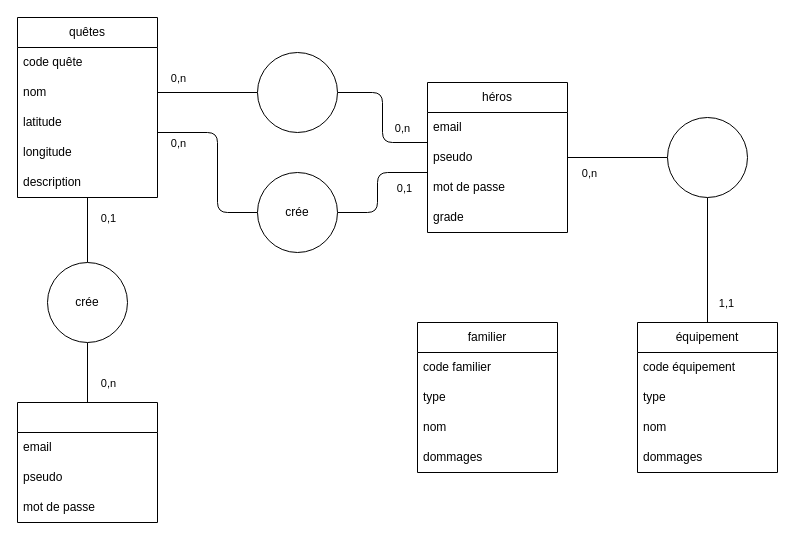
This 795x540 diagram has some shape labels left out. Here are the shapes that lost their labels. From the top down, the box of each, then its label:
(256, 52, 338, 132): réalise
(666, 116, 748, 198): possede
(16, 402, 158, 522): maître du jeu
